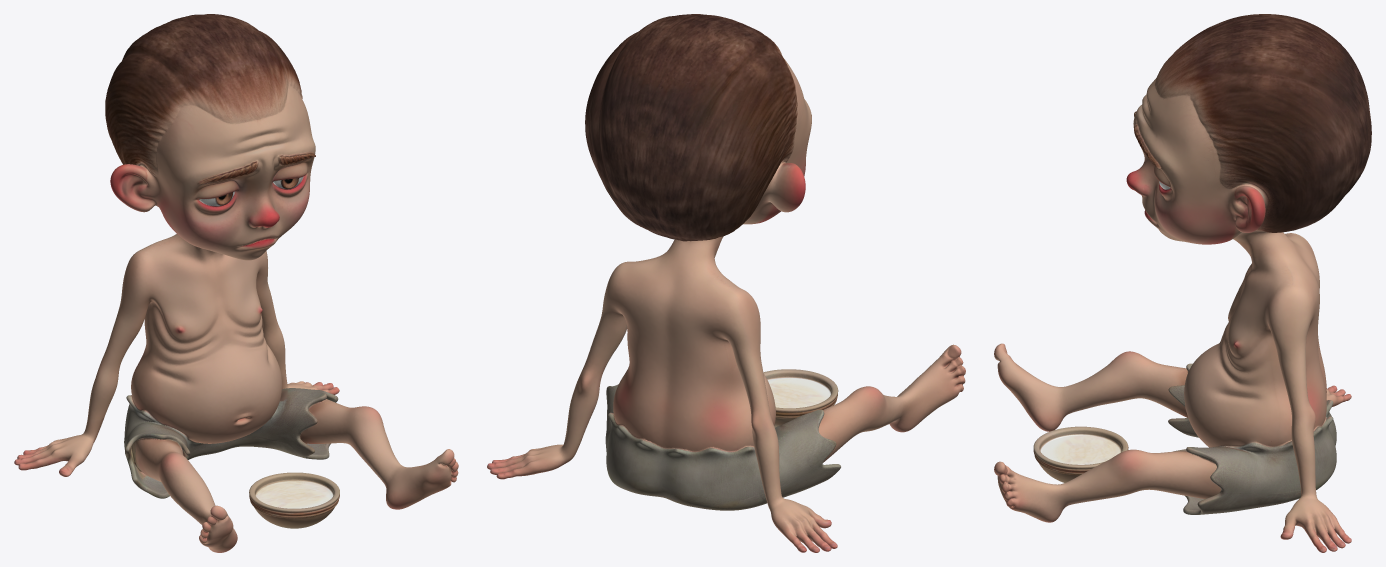
File: Kasus 4.glb
3 views of the same model, side by side, from view 1: azimuth 30°, elevation 25°; view 2: azimuth 150°, elevation 25°; view 3: azimuth 270°, elevation 25° (orthographic). The views are drawn at different scales.
Size of the model in its own units: 1.47 by 1.9 by 1.44.
1 material, 1 textured.
